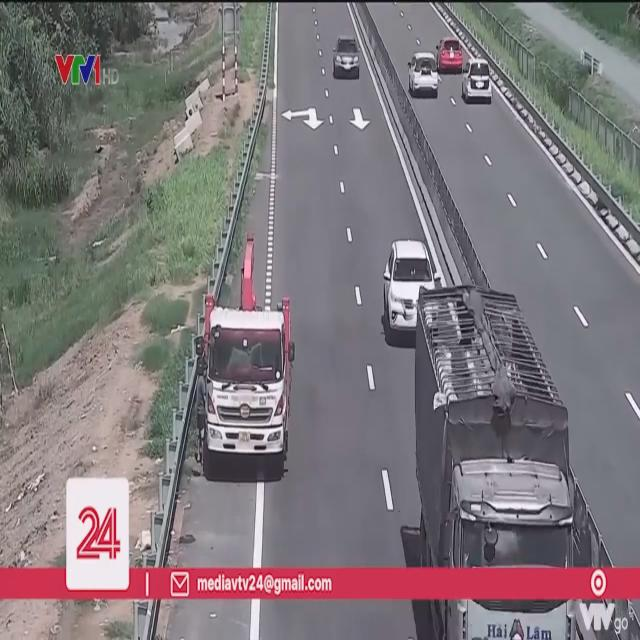car: (382, 242, 437, 344), (409, 53, 442, 97), (461, 60, 490, 106), (332, 37, 360, 78), (438, 40, 464, 75)
truck: (416, 287, 576, 561), (205, 297, 292, 482)
